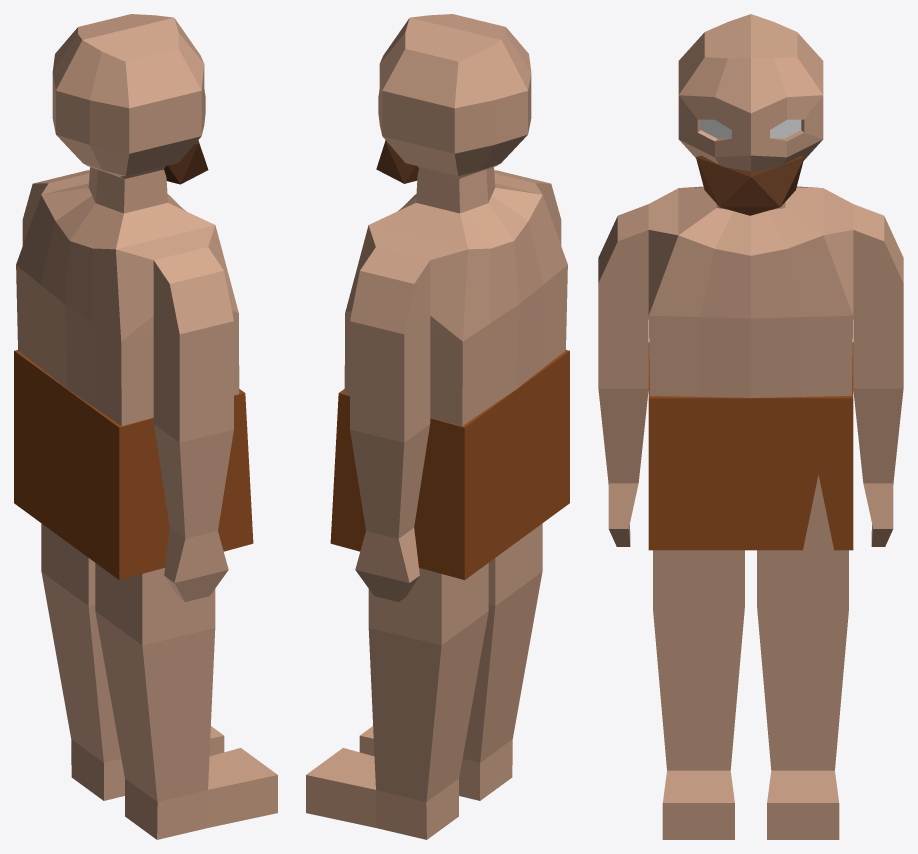
The model's file is dude.fbx.
3 views of the same model, side by side, from view 1: azimuth 30°, elevation 25°; view 2: azimuth 150°, elevation 25°; view 3: azimuth 270°, elevation 25° (orthographic). The views are drawn at different scales.
Parts seen in each view (by area): view 1: dude, cloth, Icosphere; view 2: dude, cloth, Icosphere; view 3: dude, cloth, Icosphere.
Part boxes in pixels (left/top/right/bottom): dude: left=16, top=14, right=277, bottom=839; cloth: left=14, top=350, right=253, bottom=579; Icosphere: left=164, top=140, right=208, bottom=184; dude: left=306, top=14, right=567, bottom=839; cloth: left=330, top=350, right=569, bottom=579; Icosphere: left=376, top=140, right=418, bottom=183; dude: left=598, top=14, right=903, bottom=839; cloth: left=648, top=342, right=853, bottom=550; Icosphere: left=696, top=155, right=804, bottom=215.
Bounding box in the file's own units: 48.49 × 204 × 74.62.
